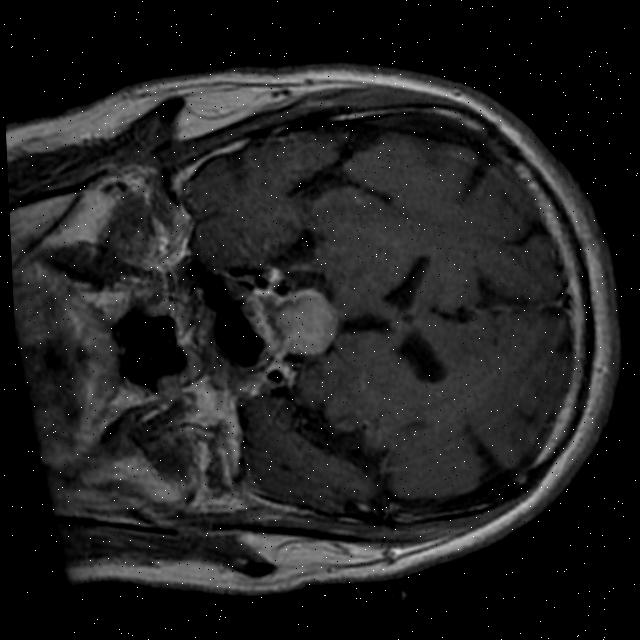Pituitary: (238, 279, 343, 365)
